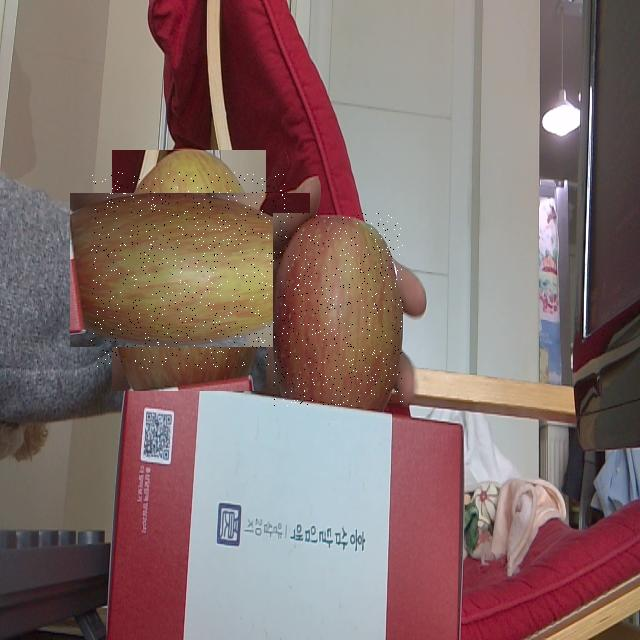apple: (91, 172, 288, 369), (273, 213, 403, 406)
